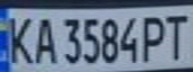3: (57, 14, 81, 65)
4: (118, 12, 142, 63)
5: (78, 14, 103, 65)
8: (100, 13, 121, 64)
A: (30, 14, 57, 65)
K: (3, 12, 36, 65)
P: (139, 11, 172, 63)
T: (160, 10, 193, 61)
